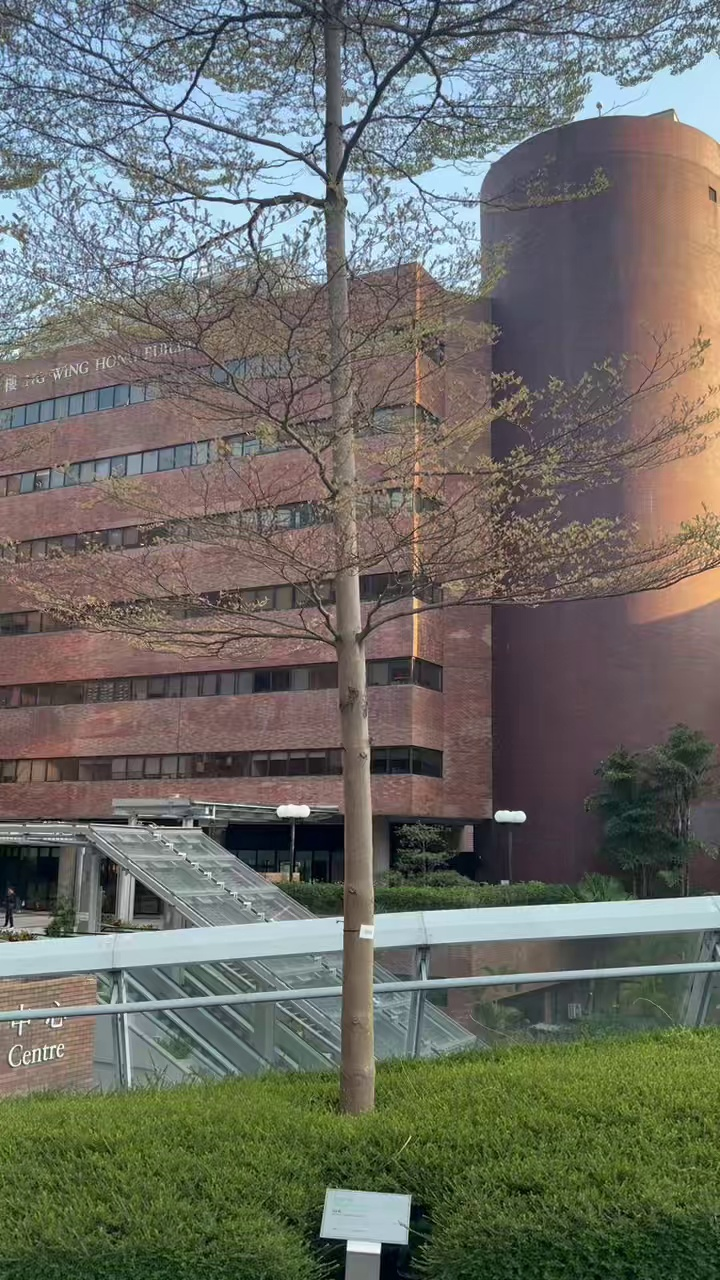Terminalia mantaly: (2, 0, 717, 1111)
